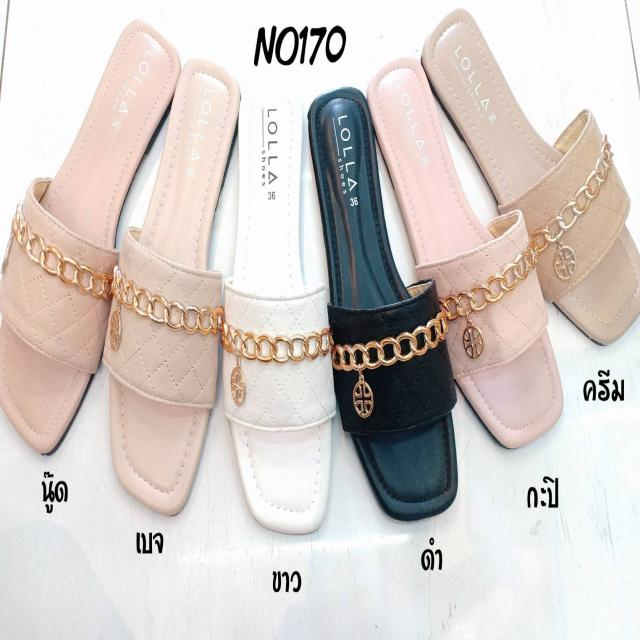bej: (110, 59, 237, 520)
black: (306, 87, 456, 510)
cream: (422, 9, 640, 343)
kapi: (368, 59, 558, 445)
nood: (1, 18, 183, 450)
white: (224, 71, 332, 530)
